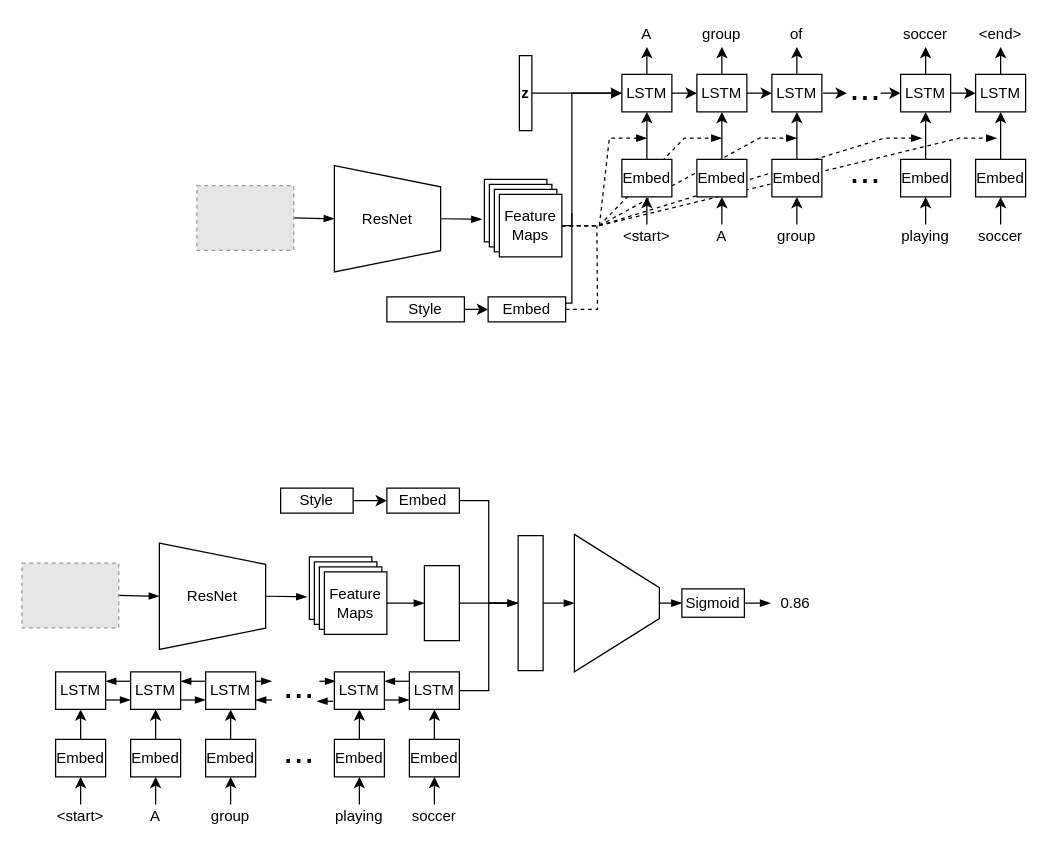
Some shapes in this 1048 by 850 pixel diagram are drawn without their labels. Grey dashed boxes stand in for pictures. Each missing label, with the box of its shape:
Concat: (517, 534, 543, 671)
Fully connected: (573, 533, 659, 672)
Pool: (423, 564, 459, 641)
